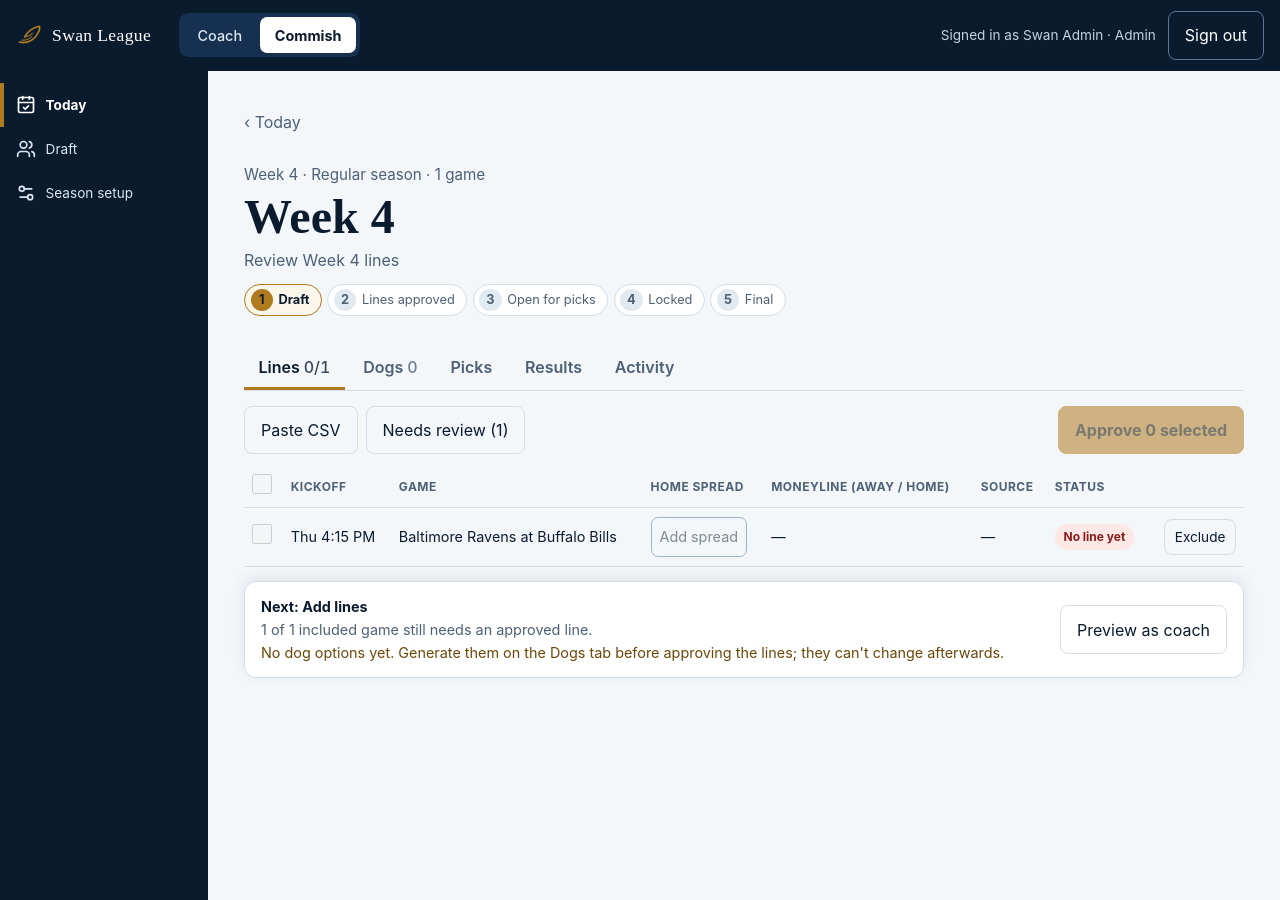
Test: the spread 35 is refused before anything is sent
Expected: the table named "Lines" is shown, [244,466,1244,567]
Type "35" into the field named "Spread for Bills" at (699, 537), box [651,517,747,557]
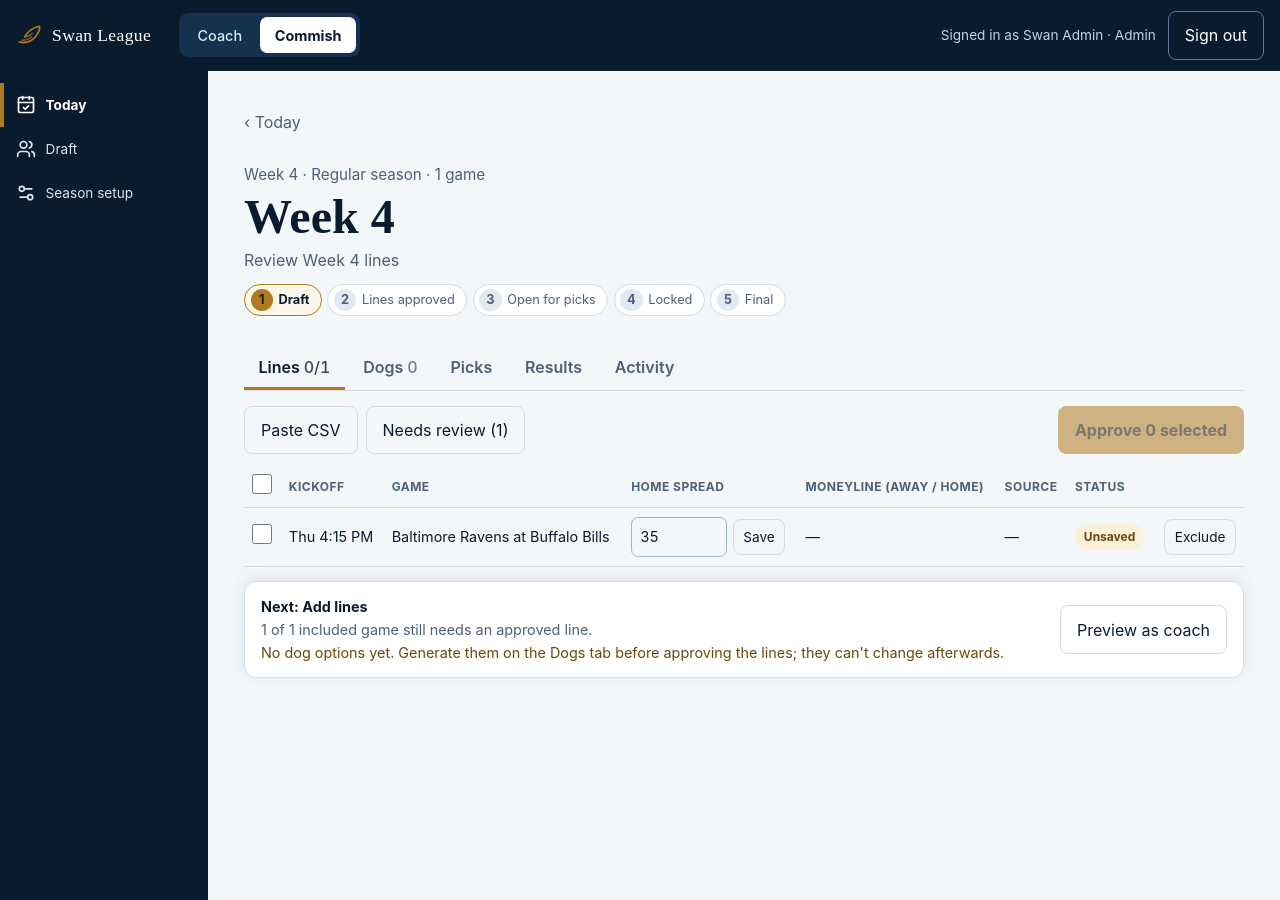
Click the button "Save" at (759, 537), box [733,519,785,555]
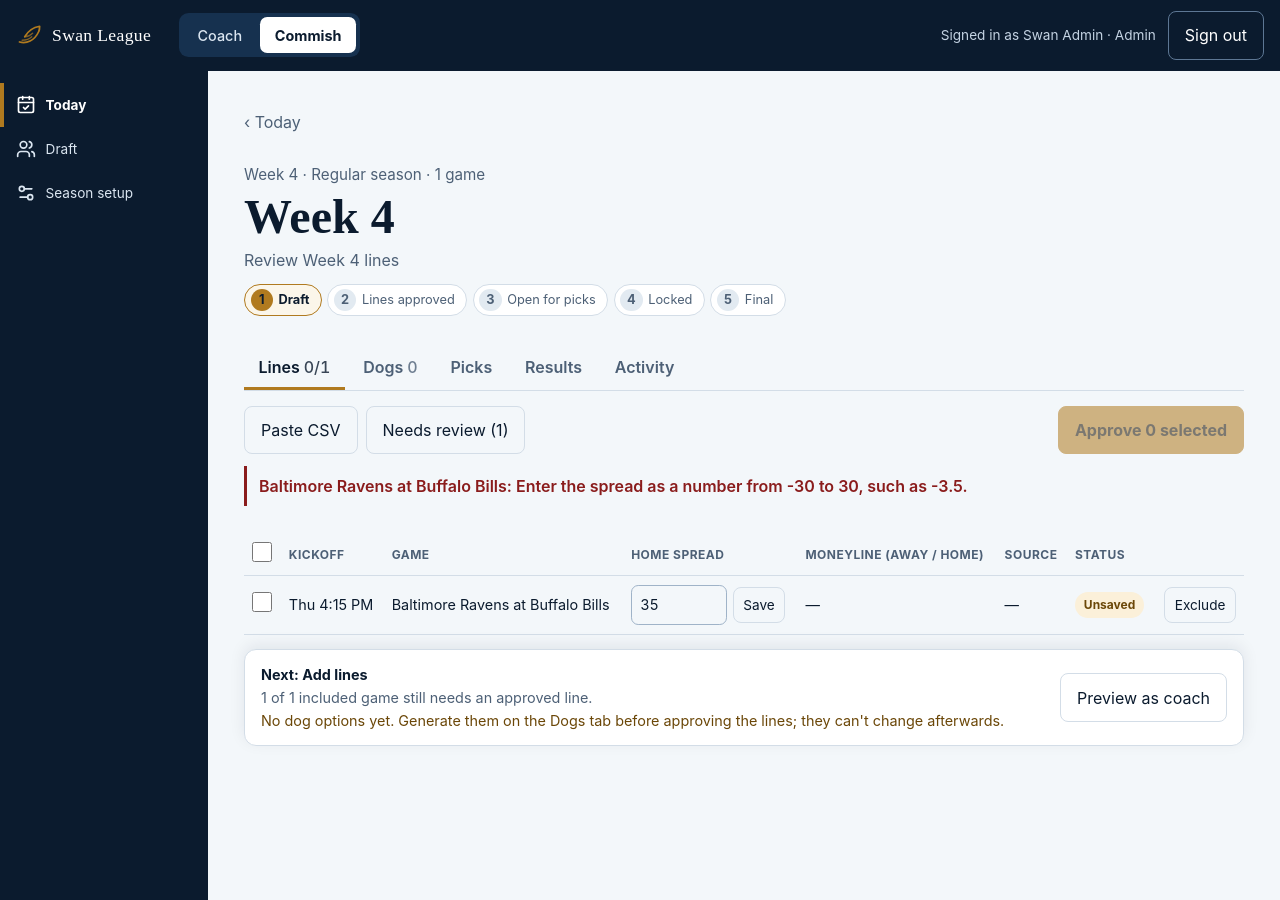
Expected: the message shows "a number from -30 to 30", [259,476,968,496]
